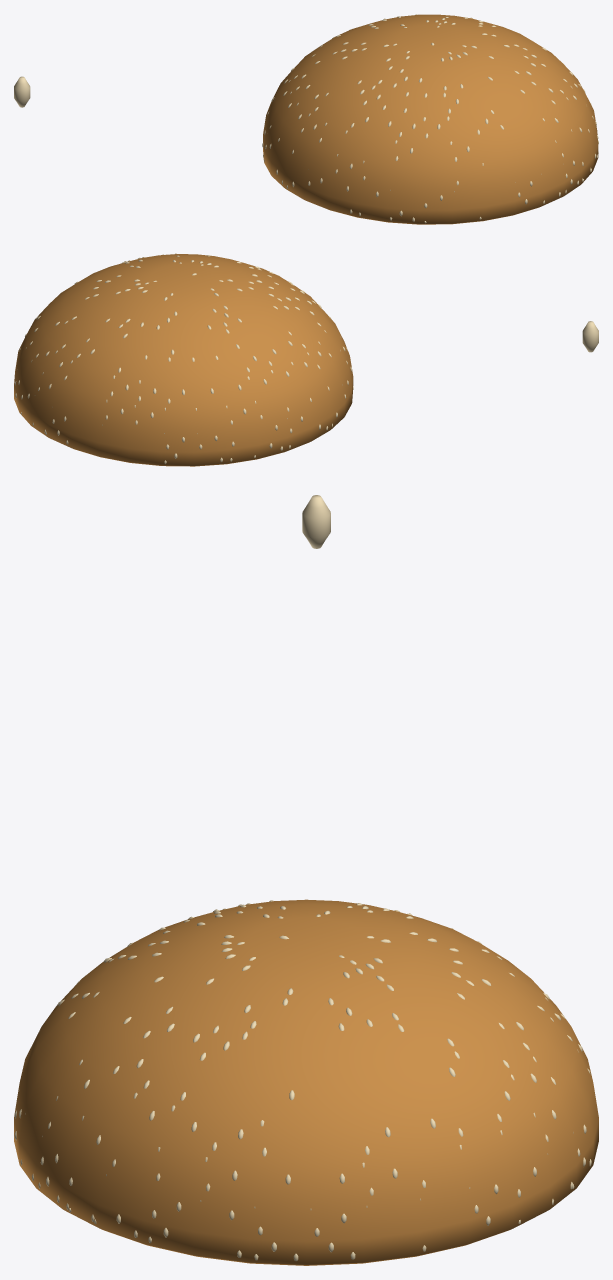
The model's file is Pan_Superior.glb.
3 views of the same model, one above another, from view 1: azimuth 30°, elevation 25°; view 2: azimuth 150°, elevation 25°; view 3: azimuth 270°, elevation 25° (orthographic). The views are drawn at different scales.
Visible parts, largest first — view 1: PAN_SUP, SEMILLA; view 2: PAN_SUP, SEMILLA; view 3: PAN_SUP, SEMILLA.
Part boxes in pixels (x1,y1,x2,y2): PAN_SUP: (263,14,598,224); SEMILLA: (14,76,30,107); PAN_SUP: (14,254,353,466); SEMILLA: (582,321,598,352); PAN_SUP: (14,899,598,1265); SEMILLA: (302,495,330,548).
Bounding box in the file's own units: 11.85 × 3.56 × 6.18.
